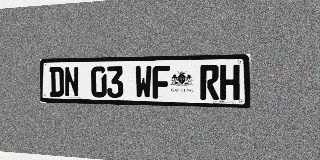0: (91, 66, 107, 98)
3: (107, 66, 123, 98)
D: (49, 67, 64, 97)
F: (152, 65, 170, 99)
H: (220, 64, 240, 100)
N: (64, 67, 79, 97)
R: (200, 65, 219, 100)
W: (135, 66, 152, 99)
